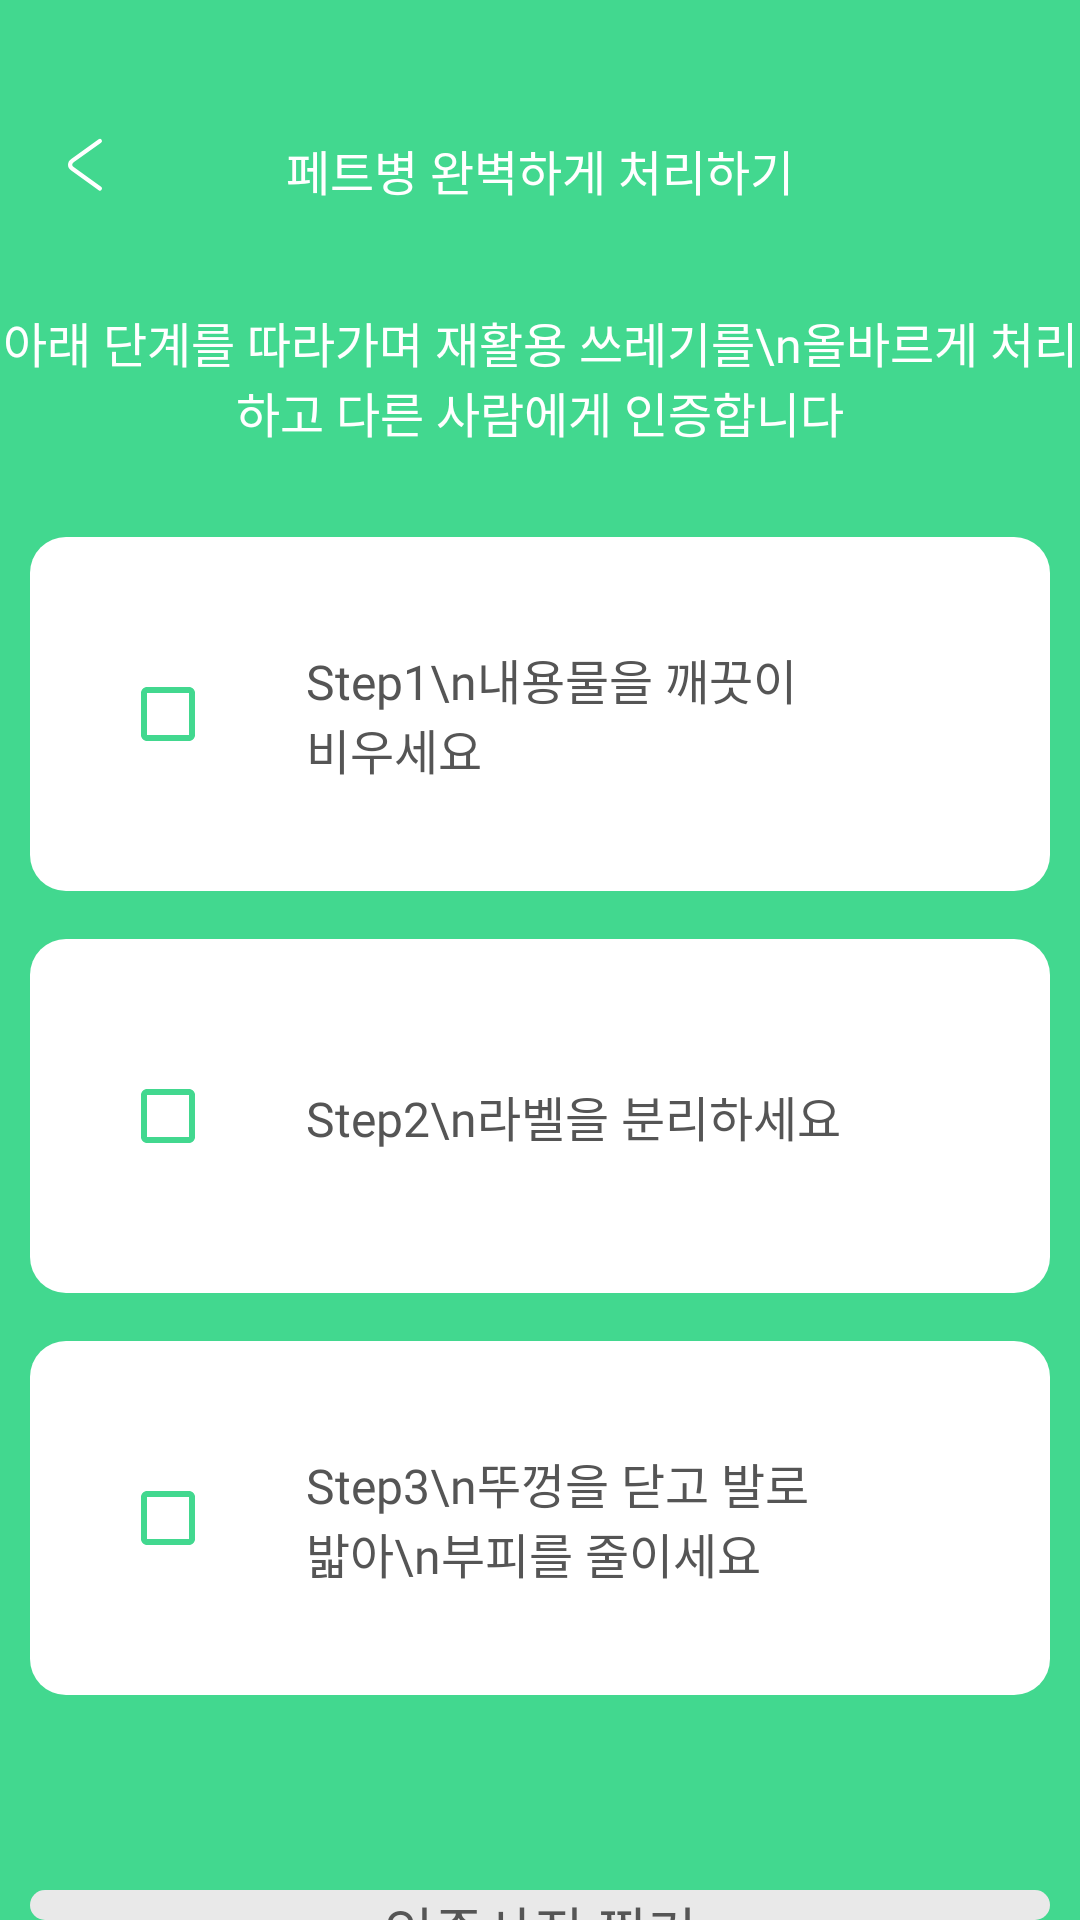

Icons on this 1080*1920 Android screen, each with its box as (x1, y1, x2, y2):
arrow: (68, 139, 102, 191)
checkbox: (141, 687, 195, 741), (141, 1089, 195, 1143), (141, 1491, 195, 1545)
